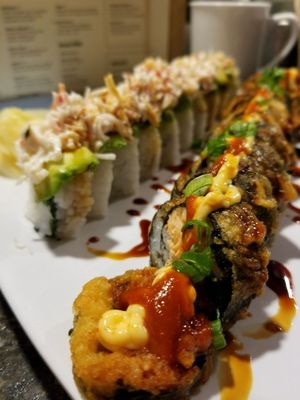pizza: (188, 1, 300, 82)
